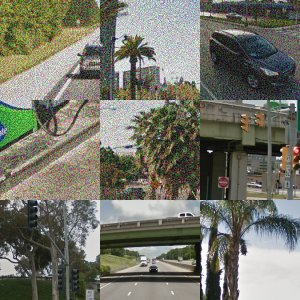公車: (200, 101, 299, 202), (108, 24, 178, 73)
樓梯: (1, 203, 99, 299)
汽車: (227, 240, 272, 275), (232, 278, 279, 300), (137, 267, 158, 283)
腳踏車: (124, 116, 151, 156)
